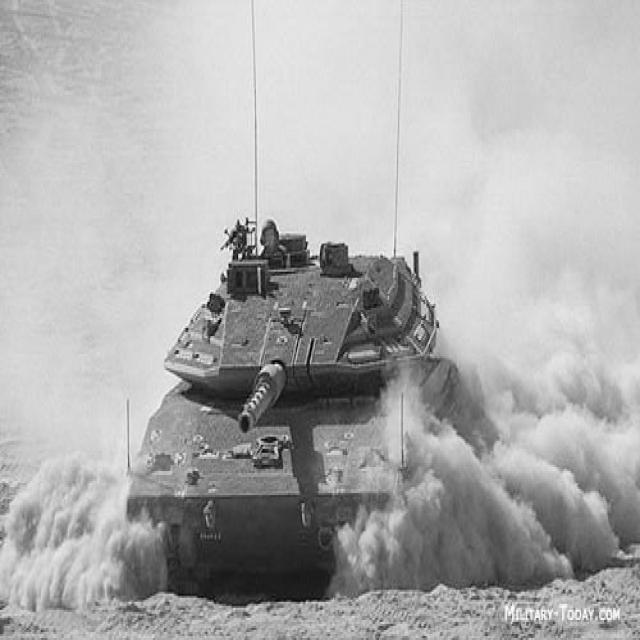Tank: (128, 190, 476, 584)
